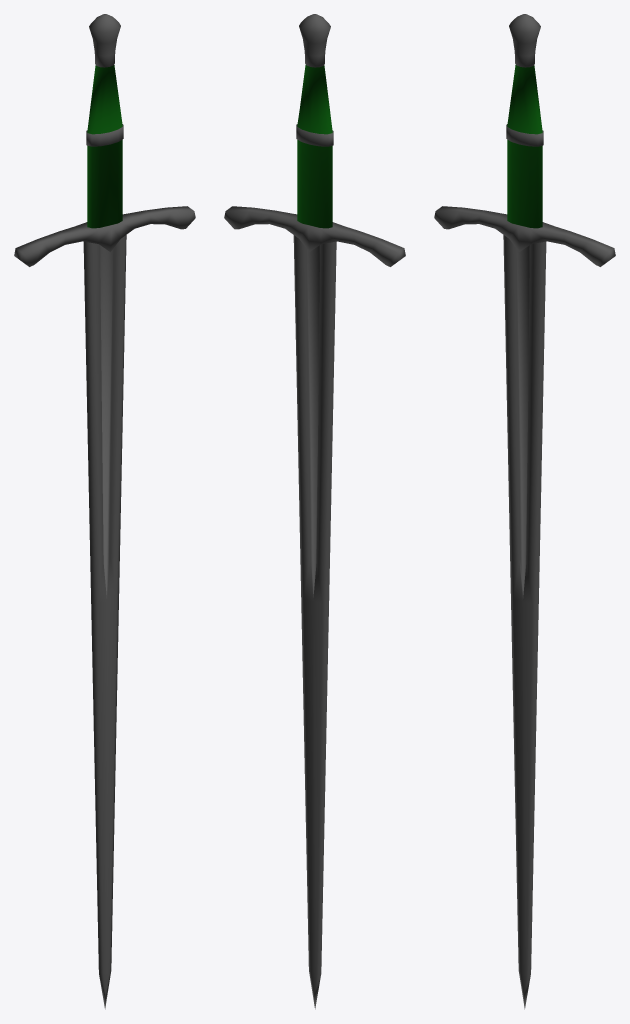
Rendered from sword_low.FBX.
3 views of the same model, side by side, from view 1: azimuth 30°, elevation 25°; view 2: azimuth 150°, elevation 25°; view 3: azimuth 330°, elevation 25° (orthographic).
Parts seen in each view (by area): view 1: 1_low, 3_low, 2_low; view 2: 1_low, 3_low, 2_low; view 3: 1_low, 3_low, 2_low.
Part boxes in pixels (bbox=[...]): 1_low: bbox=[83, 235, 126, 1009]; 3_low: bbox=[86, 14, 123, 228]; 2_low: bbox=[14, 206, 195, 266]; 1_low: bbox=[293, 235, 336, 1009]; 3_low: bbox=[296, 14, 333, 228]; 2_low: bbox=[224, 206, 405, 266]; 1_low: bbox=[503, 235, 546, 1009]; 3_low: bbox=[506, 14, 543, 228]; 2_low: bbox=[434, 206, 615, 266].
Bounding box in the file's own units: 73.71 × 400 × 11.05.
